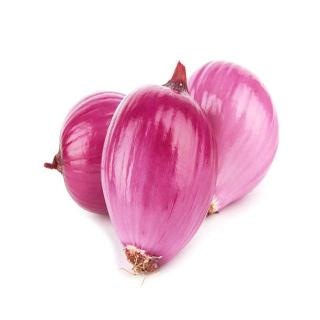Bawang Merah: (100, 60, 222, 277)
